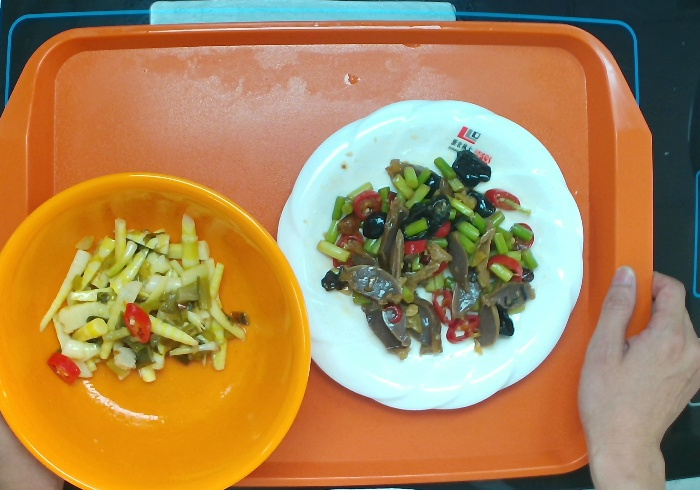ZNLD-Hua_Bian_Wan: (274, 98, 585, 412)
ZNLD-Ju_Se_Tang_Wan: (1, 170, 312, 490)
